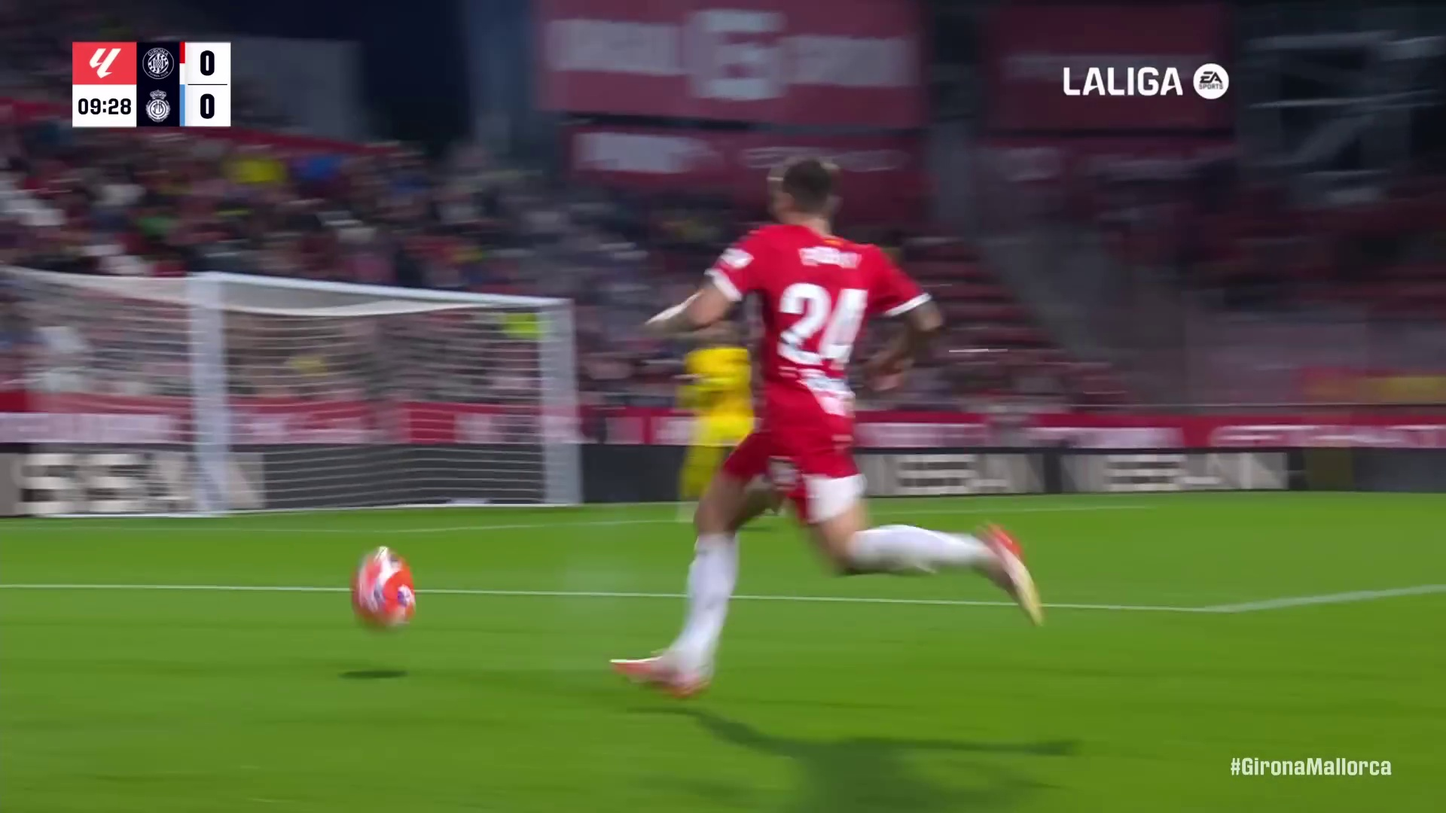ball: (341, 545, 424, 642)
player: (605, 147, 1047, 707)
